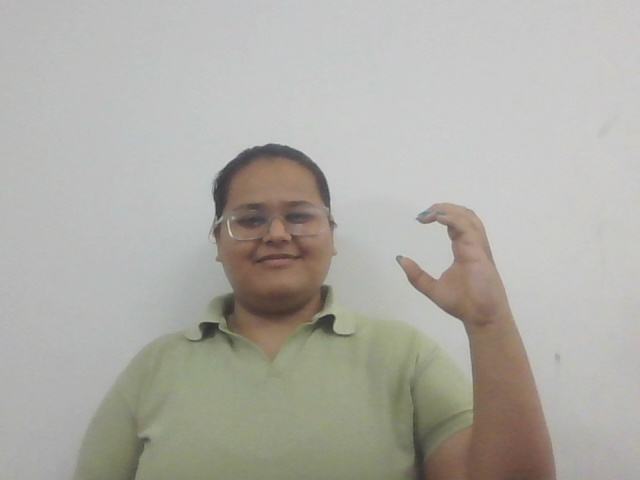C: (392, 200, 515, 326)
